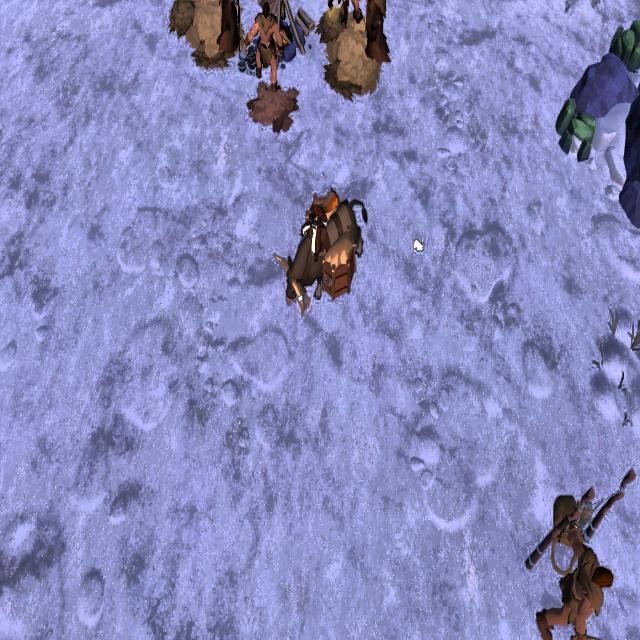enemy_factionKeeper: (536, 533, 616, 640), (249, 8, 282, 96)
rock_t3: (554, 94, 596, 158), (605, 16, 640, 70)
